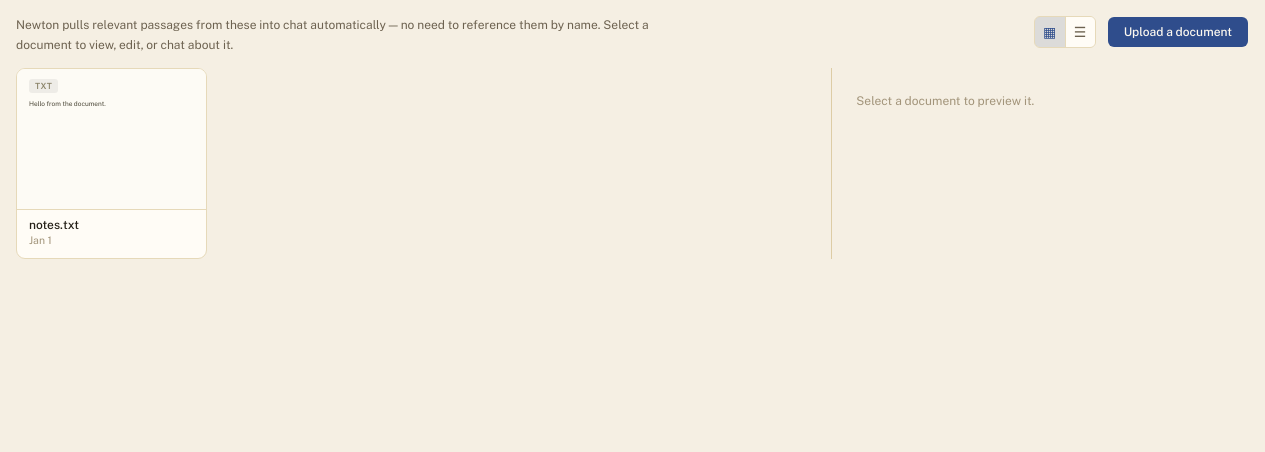
DocumentsPanel › selecting a document loads its content and offers document actions
Click the text "notes.txt": (54, 225) x1=29 y1=218 x2=79 y2=232
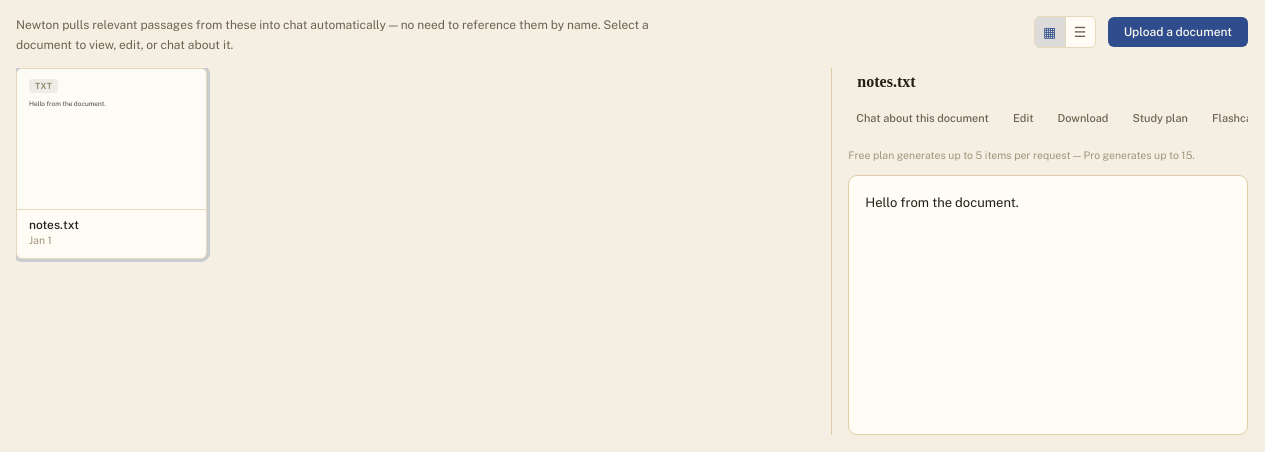
Check: the text "Hello from the document." below "Free plan generates up to" is shown, box x1=865 y1=195 x2=1019 y2=210
Check: the button "Edit" is shown, box x1=1005 y1=108 x2=1042 y2=128
Check: the button "Chat about this document" is shown, box x1=848 y1=108 x2=997 y2=128
